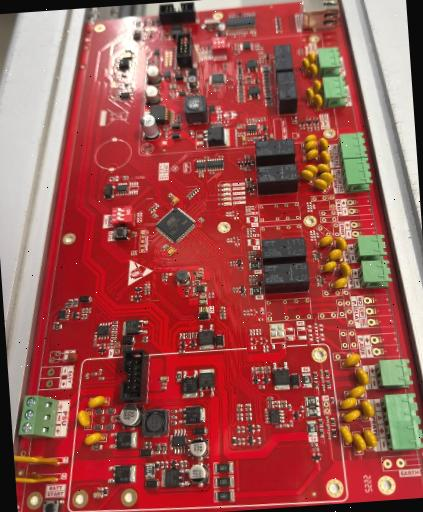var: (13, 448, 60, 468), (14, 470, 56, 486), (363, 428, 378, 449), (83, 432, 105, 446), (352, 432, 366, 453), (77, 410, 92, 428), (361, 399, 375, 418), (356, 368, 370, 386), (87, 396, 108, 408), (342, 408, 360, 422), (340, 425, 353, 444), (344, 353, 361, 367), (340, 397, 358, 410), (348, 386, 366, 398), (313, 178, 328, 192), (328, 248, 343, 262), (335, 236, 348, 252), (339, 262, 352, 278), (320, 172, 334, 186), (318, 235, 334, 247), (312, 94, 324, 110), (322, 260, 338, 272), (300, 169, 314, 182), (316, 163, 331, 175), (305, 149, 319, 161), (304, 140, 318, 152), (304, 164, 318, 176), (308, 64, 318, 80), (332, 278, 348, 288), (320, 150, 330, 165), (306, 88, 314, 106), (302, 58, 310, 76), (312, 80, 322, 94), (319, 137, 329, 151), (304, 134, 316, 145), (307, 52, 317, 62)
